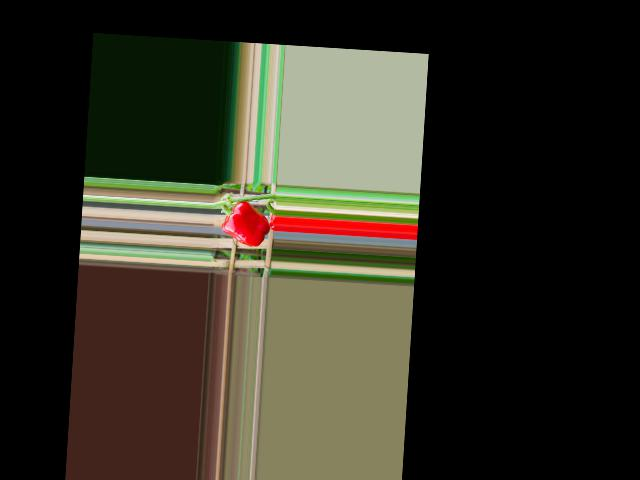bell_pepper: (220, 196, 270, 251)
